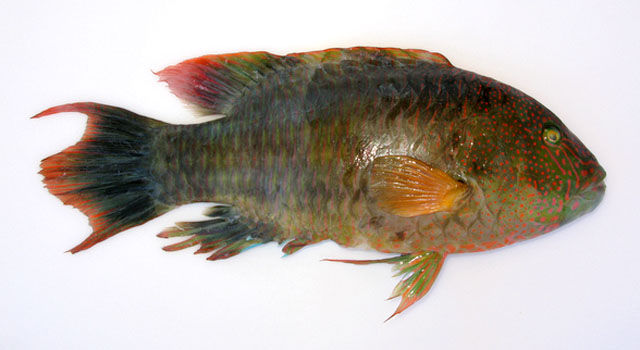fish: (30, 46, 609, 323)
